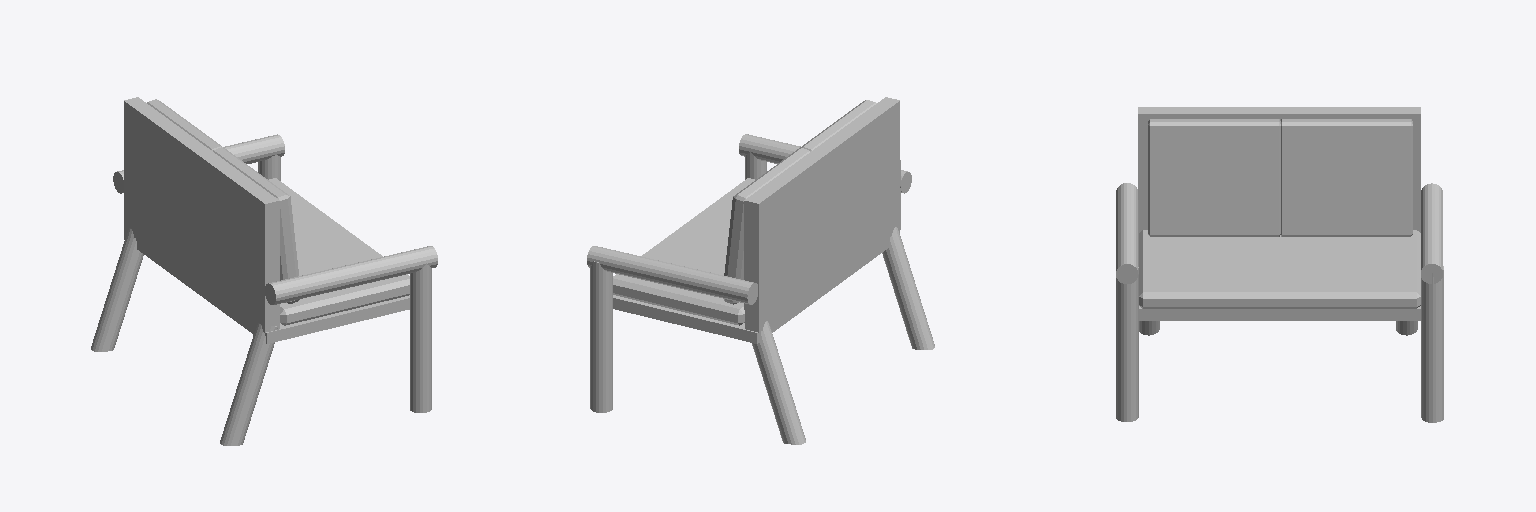
3 views of the same model, side by side, from view 1: azimuth 30°, elevation 25°; view 2: azimuth 150°, elevation 25°; view 3: azimuth 270°, elevation 25° (orthographic).
Parts seen in each view (by area): view 1: Cojines:group5_pasted__pCube2; view 2: Cojines:group5_pasted__pCube2; view 3: Cojines:group5_pasted__pCube2.
Boxes of the visible parts, <box> form: Cojines:group5_pasted__pCube2: <box>91,97,437,445</box>; Cojines:group5_pasted__pCube2: <box>587,97,934,444</box>; Cojines:group5_pasted__pCube2: <box>1116,107,1443,422</box>.
Bounding box in the file's own units: 4.98 × 5.63 × 7.06.